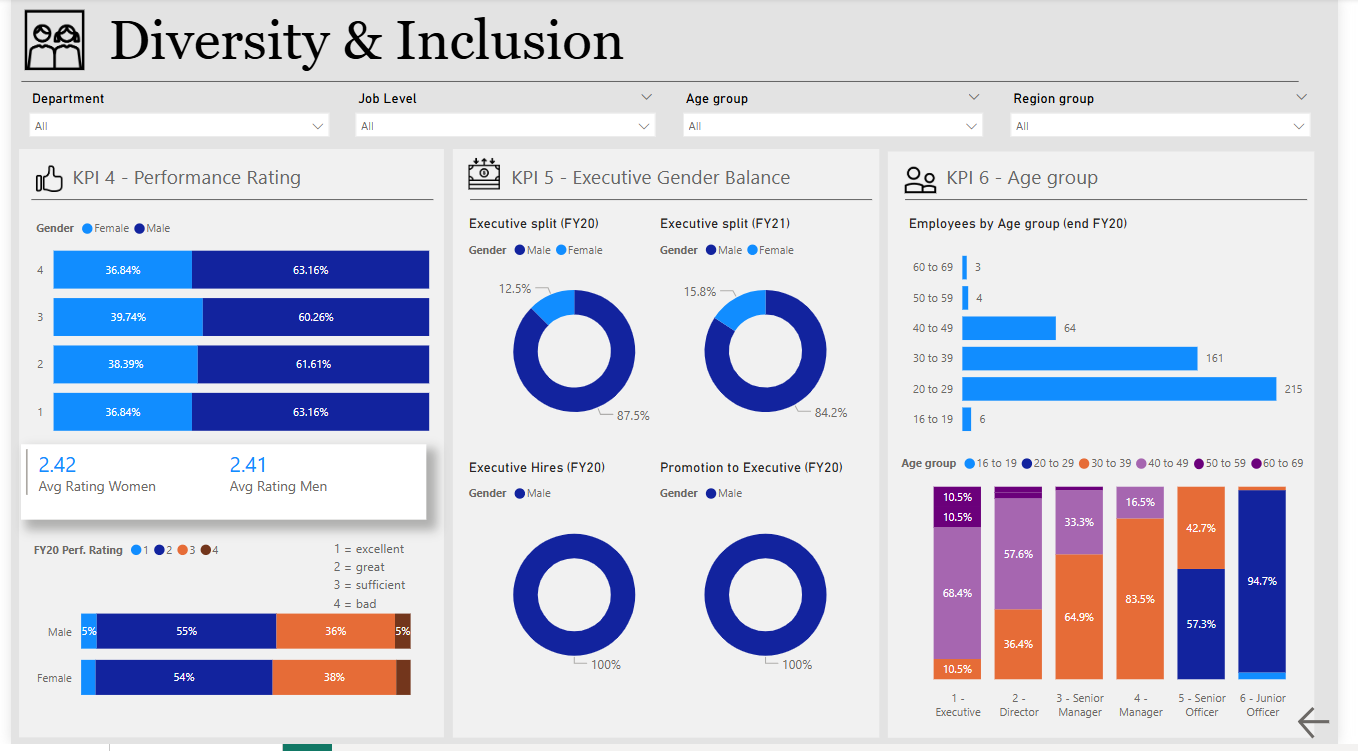

The dashboard page shown, as its layout file describes it:
{"tool":"powerbi","page":{"name":"HR Manager (2/2)","canvas":[1280,720],"ordinal":1},"visuals":[{"type":"basicShape","box":[3.9,139.9,418.6,579.7],"z":0},{"type":"slicer","fields":{"Values":["HR Manager.Job Level after FY20 promotions"]},"box":[322.5,83.9,310,55.9],"z":1000},{"type":"slicer","fields":{"Values":["HR Manager.Age group"]},"box":[638.2,83.9,310,55.9],"z":2000},{"type":"textbox","box":[88.7,4.8,1172.9,75.2],"z":3000},{"type":"basicShape","box":[0,60.8,1253,40.5],"z":4000},{"type":"basicShape","box":[422.2,139.6,420,579.7],"z":5000},{"type":"basicShape","box":[9.5,174.9,408,39.5],"z":6000},{"type":"textbox","box":[54.6,154.4,315.4,35.7],"z":7000},{"type":"multiRowCard","fields":{"Values":["HR Manager.Avg Rating Women","HR Manager.Avg Rating Men"]},"box":[10.1,431.1,390.9,72.6],"z":8000},{"type":"hundredPercentStackedBarChart","fields":{"Series":["HR Manager.FY20 Performance Rating"],"Category":["HR Manager.Gender"],"Y":["CountNonNull(HR Manager.Employee ID)"]},"box":[16.8,513.8,374.2,205.5],"z":9000},{"type":"image","box":[854.5,413.3,6.7,35.7],"z":10000},{"type":"image","box":[8.7,0,67.5,81],"z":12000},{"type":"basicShape","box":[842.2,141.8,420,577.5],"z":13000},{"type":"image","box":[19,156.4,35.7,35.7],"z":14000},{"type":"slicer","fields":{"Values":["HR Manager.Last Department in FY20"]},"box":[6.8,83.9,310,55.9],"z":15000},{"type":"slicer","fields":{"Values":["HR Manager.Broad region group: nationality 1"]},"box":[954,83.9,310,55.9],"z":16000},{"type":"textbox","box":[477.9,154.4,315.4,35.7],"z":17000},{"type":"basicShape","box":[432.8,174.9,408,39.5],"z":18000},{"type":"textbox","box":[897.8,154.4,315.4,35.7],"z":19000},{"type":"basicShape","box":[852.7,174.9,408,39.5],"z":20000},{"type":"hundredPercentStackedBarChart","fields":{"Category":["HR Manager.FY20 Performance Rating"],"Series":["HR Manager.Gender"],"Y":["Count(HR Manager.Employee ID)"]},"box":[19,204.4,389.8,225.6],"z":21000},{"type":"textbox","box":[306,516,100.5,81.5],"z":22000},{"type":"donutChart","title":"Executive split (FY21)","fields":{"Category":["HR Manager.Gender"],"Y":["CountNonNull(HR Manager.Employee ID)"]},"box":[621.1,209.9,214.5,220],"z":23000},{"type":"donutChart","title":"Executive split (FY20)","fields":{"Category":["HR Manager.Gender"],"Y":["CountNonNull(HR Manager.Employee ID)"]},"box":[436.8,209.9,214.5,220],"z":24000},{"type":"donutChart","title":"Executive Hires (FY20)","fields":{"Category":["HR Manager.Gender"],"Y":["CountNonNull(HR Manager.Employee ID)"]},"box":[436.7,444.7,214.5,220],"z":25000},{"type":"donutChart","title":"Promotion to Executive (FY20)","fields":{"Category":["HR Manager.Gender"],"Y":["CountNonNull(HR Manager.Employee ID)"]},"box":[621,444.7,214.5,220],"z":26000},{"type":"image","box":[857.8,153,40.2,44.7],"z":27000},{"type":"clusteredBarChart","title":"Employees by Age group (end FY20)","fields":{"Category":["HR Manager.Age group"],"Y":["CountNonNull(HR Manager.Employee ID)"]},"box":[861.2,210,392,225.6],"z":28000},{"type":"hundredPercentStackedColumnChart","fields":{"Category":["HR Manager.Job Level after FY21 promotions"],"Series":["HR Manager.Age group"],"Y":["CountNonNull(HR Manager.Employee ID)"]},"box":[854.5,431.1,406.6,273.6],"z":29000},{"type":"image","box":[436.7,147.4,40.2,44.7],"z":30000},{"type":"actionButton","box":[1237.6,679.1,42.4,40.5],"z":31000}]}

Visuals, with their boxes in screenshot pixels (x1, y1, x2, y2), scaled from the page's 1280x720 canvas onto the 1358x751 screenshot:
basicShape: <box>4,146,448,750</box>
slicer - HR Manager.Job Level after FY20 promotions: <box>342,88,671,146</box>
slicer - HR Manager.Age group: <box>677,88,1006,146</box>
textbox: <box>94,5,1338,83</box>
basicShape: <box>0,63,1329,106</box>
basicShape: <box>448,146,894,750</box>
basicShape: <box>10,182,443,224</box>
textbox: <box>58,161,393,198</box>
multiRowCard - HR Manager.Avg Rating Women x HR Manager.Avg Rating Men: <box>11,450,425,525</box>
hundredPercentStackedBarChart - HR Manager.FY20 Performance Rating x HR Manager.Gender: <box>18,536,415,750</box>
image: <box>907,431,914,468</box>
image: <box>9,0,81,84</box>
basicShape: <box>894,148,1339,750</box>
image: <box>20,163,58,200</box>
slicer - HR Manager.Last Department in FY20: <box>7,88,336,146</box>
slicer - HR Manager.Broad region group: nationality 1: <box>1012,88,1341,146</box>
textbox: <box>507,161,842,198</box>
basicShape: <box>459,182,892,224</box>
textbox: <box>953,161,1287,198</box>
basicShape: <box>905,182,1338,224</box>
hundredPercentStackedBarChart - HR Manager.FY20 Performance Rating x HR Manager.Gender: <box>20,213,434,449</box>
textbox: <box>325,538,431,623</box>
"Executive split (FY21)" donutChart: <box>659,219,887,448</box>
"Executive split (FY20)" donutChart: <box>463,219,691,448</box>
"Executive Hires (FY20)" donutChart: <box>463,464,691,693</box>
"Promotion to Executive (FY20)" donutChart: <box>659,464,886,693</box>
image: <box>910,160,953,206</box>
"Employees by Age group (end FY20)" clusteredBarChart: <box>914,219,1330,454</box>
hundredPercentStackedColumnChart - HR Manager.Job Level after FY21 promotions x HR Manager.Age group: <box>907,450,1338,735</box>
image: <box>463,154,506,200</box>
actionButton: <box>1313,708,1357,750</box>
